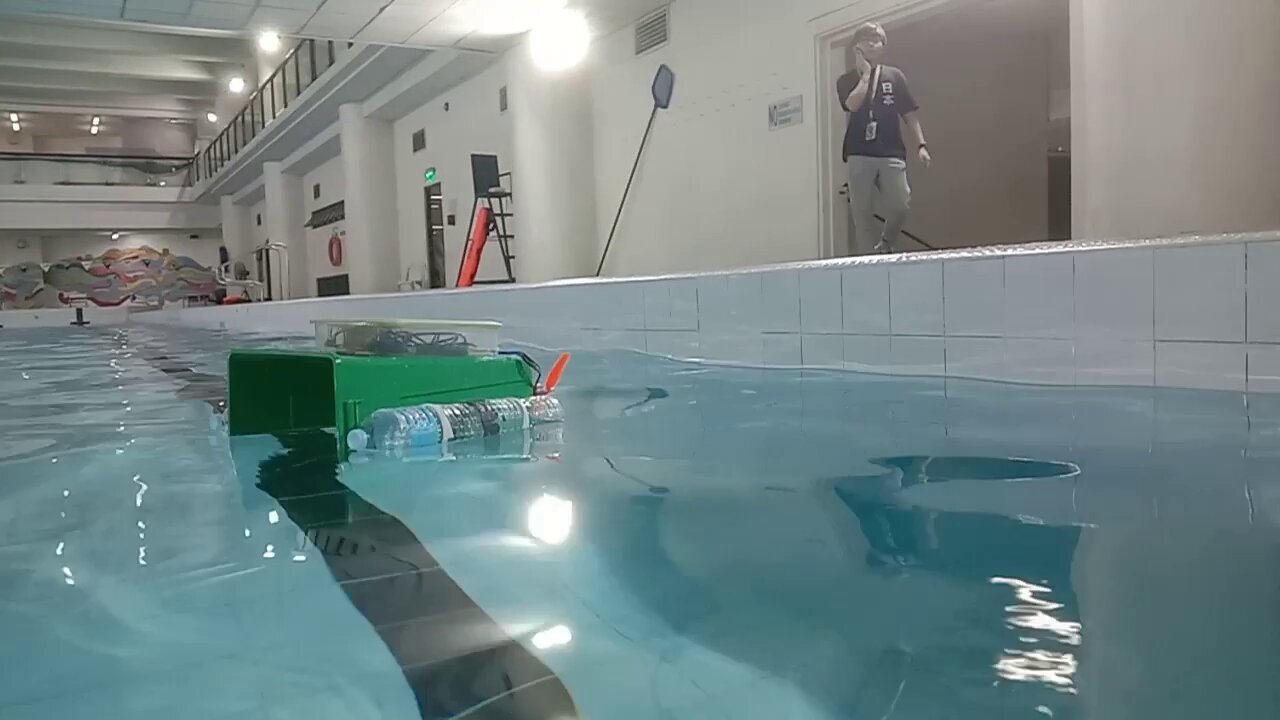drone: (228, 318, 570, 456)
